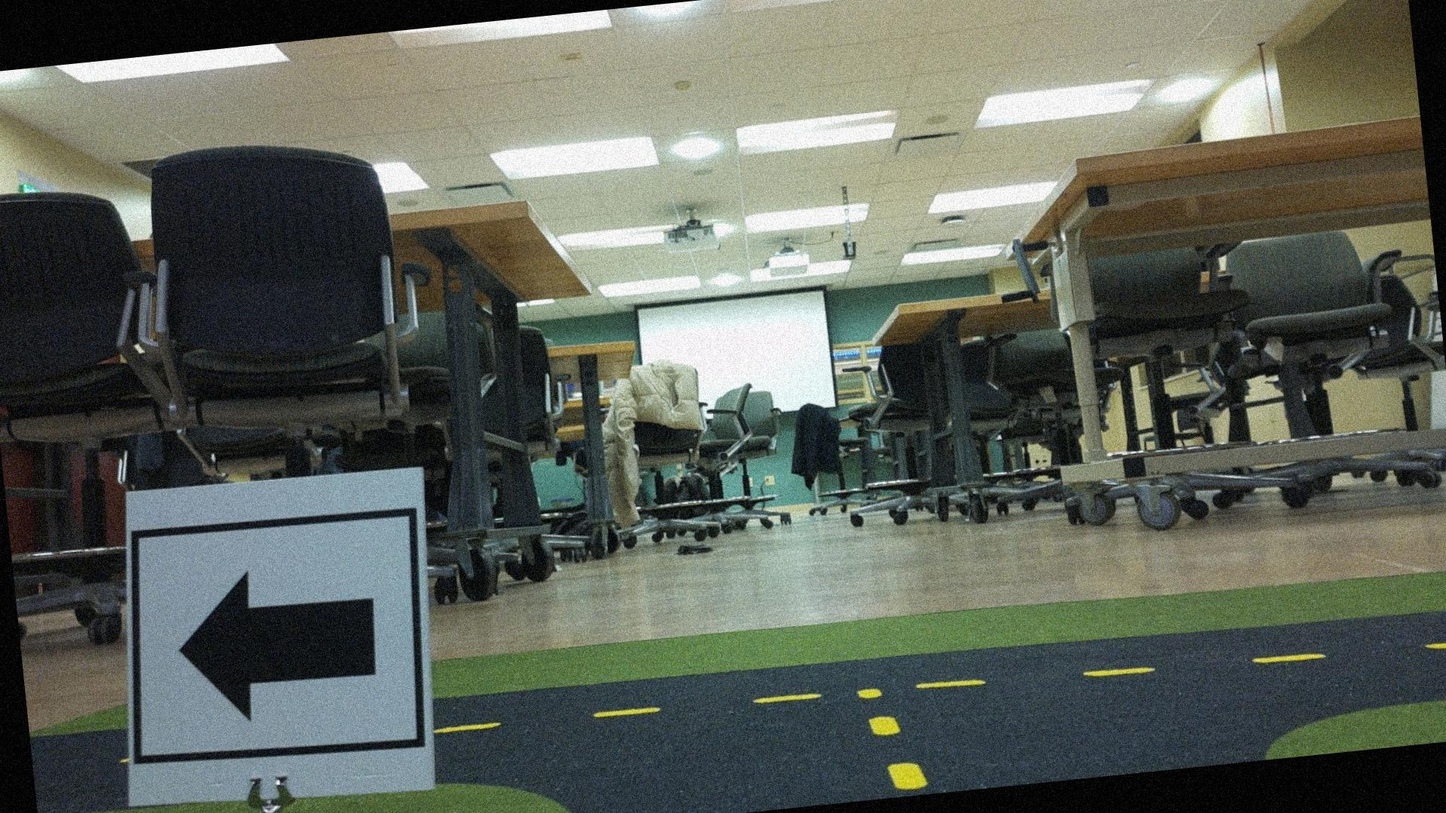turnleft: (126, 473, 438, 808)
yellowline: (437, 619, 1445, 755), (855, 680, 931, 794)
